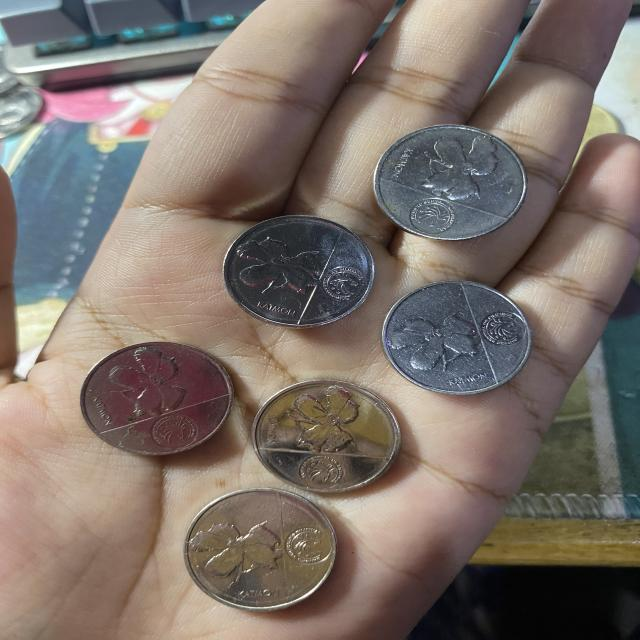25Cent_New_Back: (190, 520, 282, 590), (388, 315, 476, 379), (235, 234, 314, 302), (286, 388, 369, 452), (420, 127, 503, 190), (102, 350, 183, 414)
